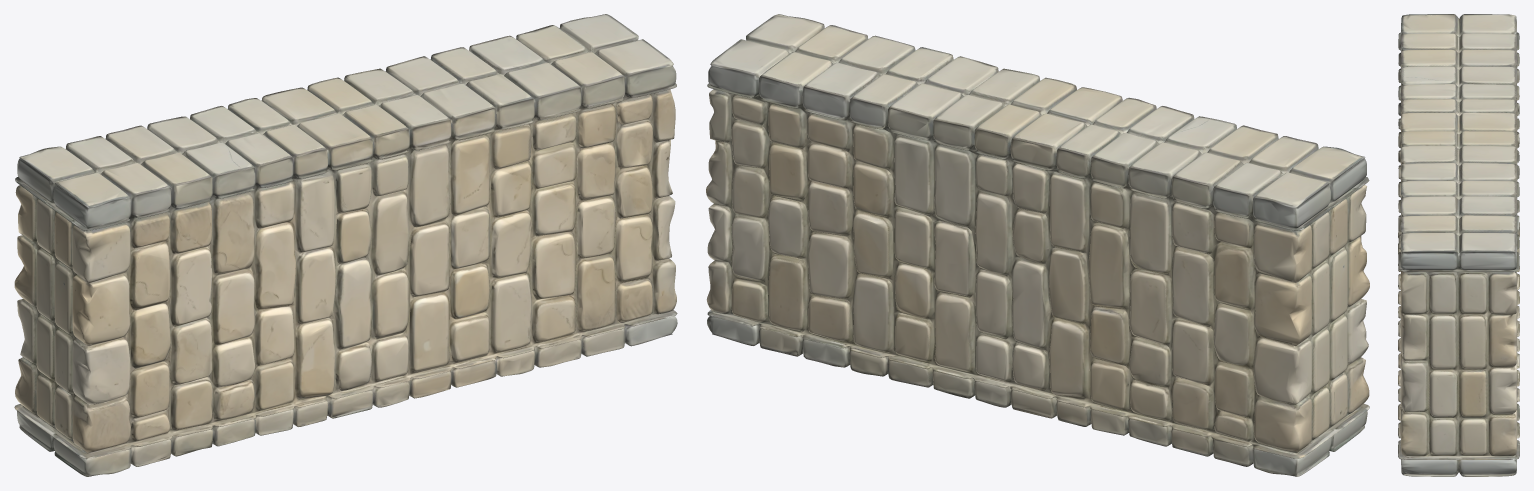
The model's file is straight-stone-road.glb.
3 views of the same model, side by side, from view 1: azimuth 30°, elevation 25°; view 2: azimuth 150°, elevation 25°; view 3: azimuth 270°, elevation 25° (orthographic). The views are drawn at different scales.
Parts seen in each view (by area): view 1: node_0; view 2: node_0; view 3: node_0.
Boxes of the visible parts, left/top/right/bottom form: node_0: left=14, top=14, right=677, bottom=476; node_0: left=706, top=14, right=1369, bottom=476; node_0: left=1398, top=14, right=1519, bottom=476.
Size of the model in its own units: 1.09 by 0.4801 by 0.2341.
Materials: 1 (1 with a texture image).
